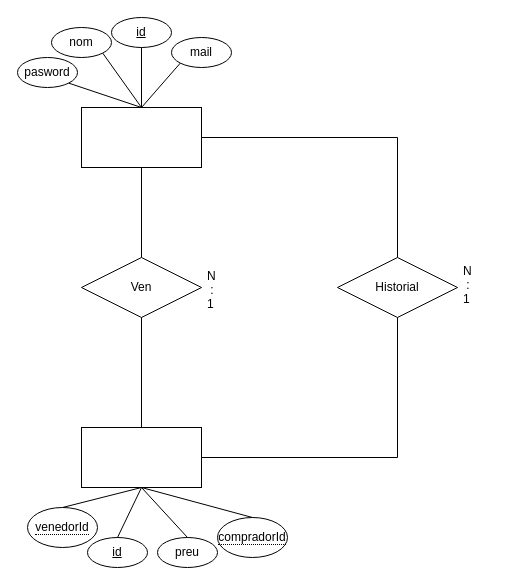
This 515x585 diagram has some shape labels left out. Here are the shapes that lost their labels. From the top down, the centre of each, then its label:
the point at 141,137: USUARI
the point at 141,457: PRODUCTE
